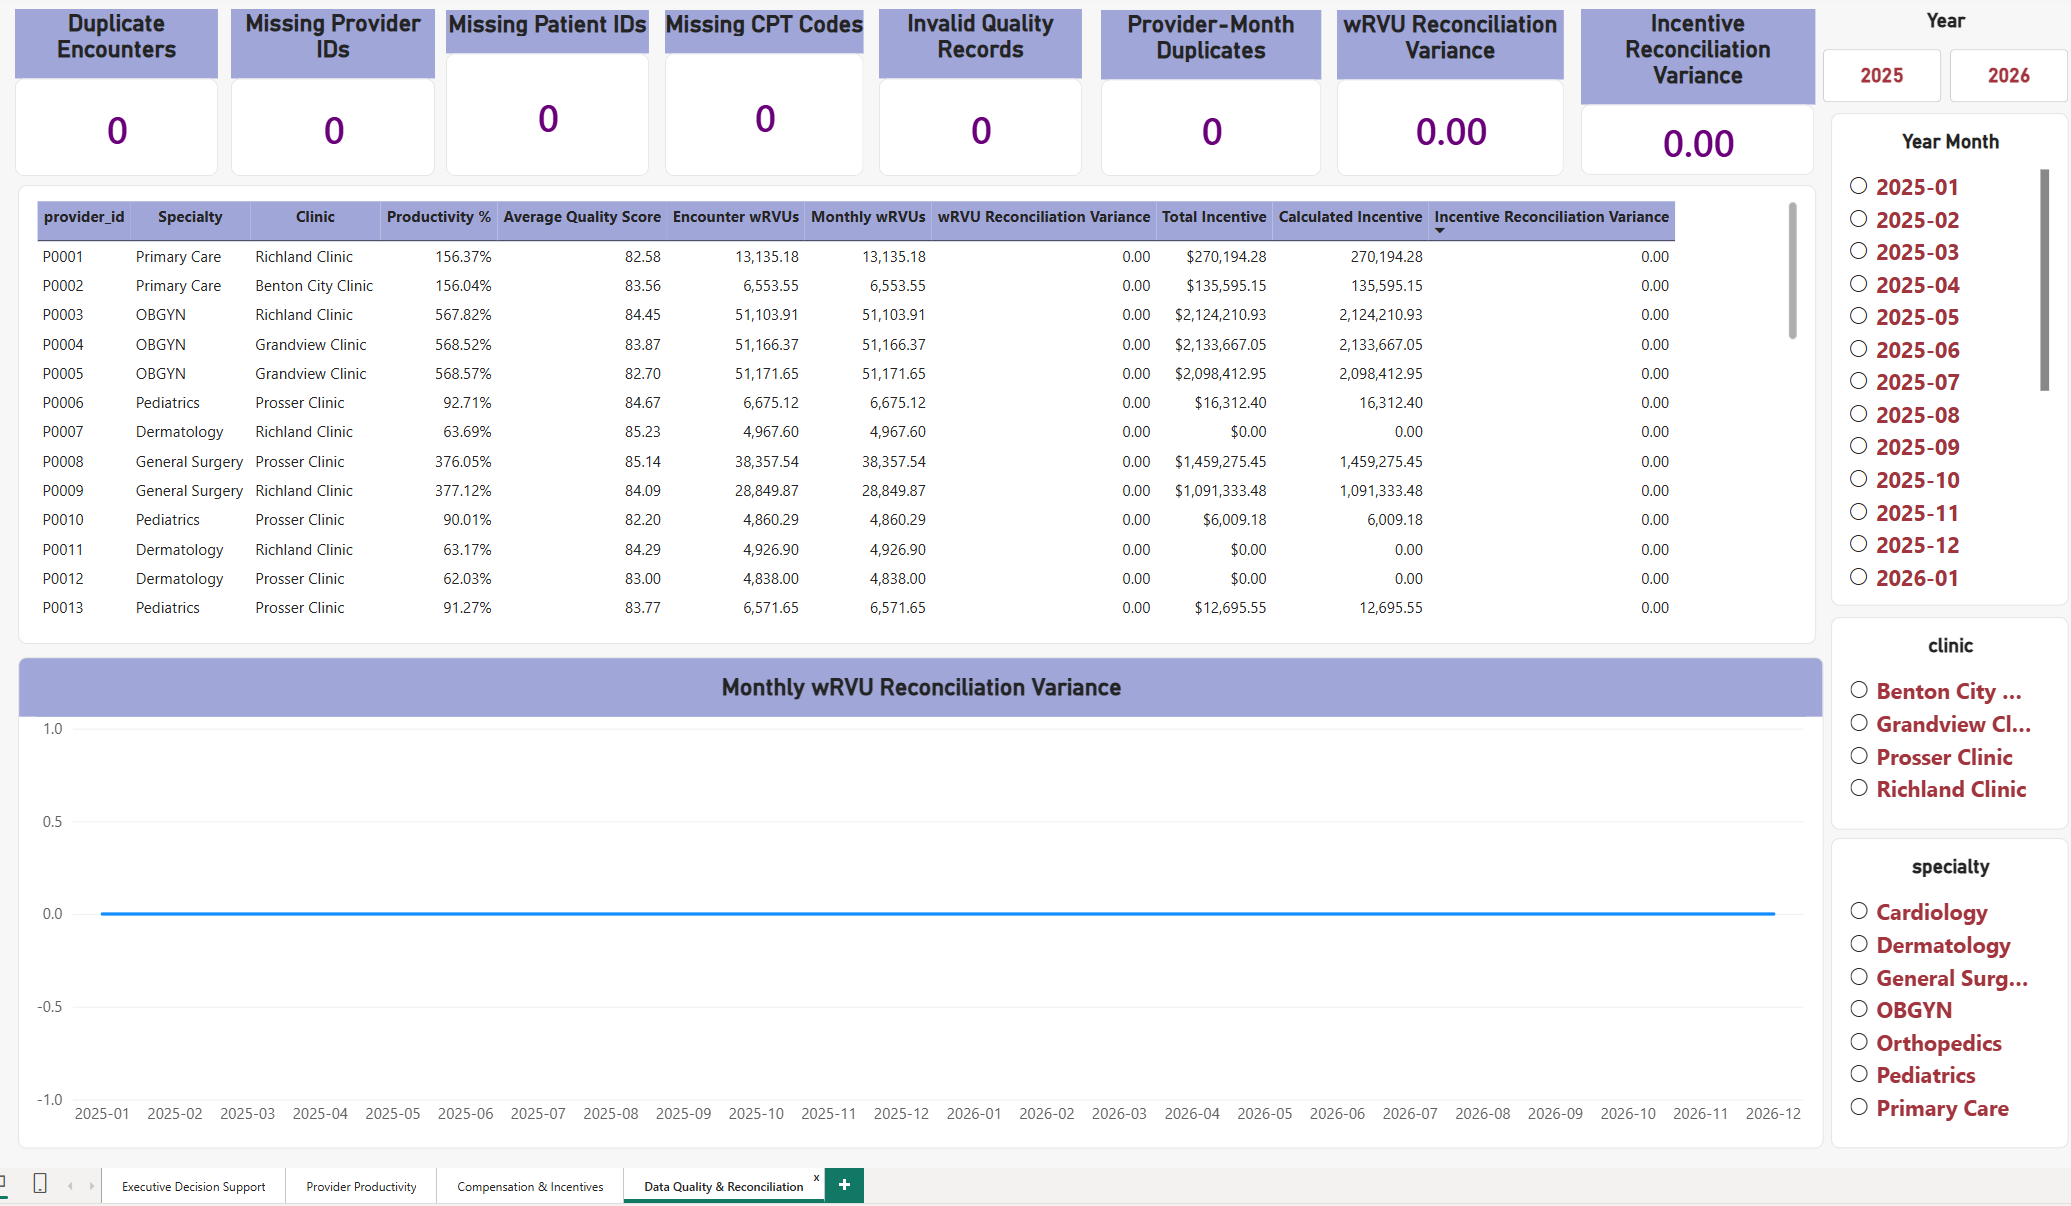

The page's visual inventory and layout, read from the dashboard file:
{"tool":"powerbi","page":{"name":"Data Quality & Reconciliation","canvas":[1920,1080],"ordinal":3},"visuals":[{"type":"tableEx","fields":{"Values":["dim_providers.provider_id","Min(dim_providers.specialty)","Min(dim_providers.clinic)","fact_provider_monthly.Productivity %","fact_provider_monthly.Average Quality Score","fact_encounter.Encounter wRVUs","fact_encounter.Monthly wRVUs","fact_encounter.wRVU Reconciliation Variance","fact_provider_monthly.Total Incentive","fact_provider_monthly.Calculated Incentive","fact_provider_monthly.Incentive Reconciliation Variance"]},"box":[21.7,174.5,1656.7,423.1],"z":0},{"type":"advancedSlicerVisual","fields":{"Values":["DimDate.Year"]},"box":[1685.8,11.9,227.1,86.9],"z":1000},{"type":"listSlicer","fields":{"Values":["DimDate.Year Month"]},"box":[1693.2,107.5,218.9,453.6],"z":2000},{"type":"listSlicer","fields":{"Values":["dim_providers.specialty"]},"box":[1693.2,776.1,218.9,286],"z":3000},{"type":"listSlicer","fields":{"Values":["dim_providers.clinic"]},"box":[1693.2,572,218.9,196.2],"z":4000},{"type":"cardVisual","title":"Duplicate Encounters","fields":{"Data":["fact_encounter.Duplicate Encounter Count"]},"box":[19.7,11.8,187.4,154.8],"z":5000},{"type":"cardVisual","title":"Missing Provider IDs","fields":{"Data":["fact_encounter.Missing Provider IDs"]},"box":[217.9,11.8,188.4,154.8],"z":6000},{"type":"cardVisual","title":"Missing Patient IDs","fields":{"Data":["fact_encounter.Missing Patient IDs"]},"box":[416.1,12.8,187.4,153.8],"z":7000},{"type":"cardVisual","title":"Missing CPT Codes","fields":{"Data":["fact_encounter.Missing CPT Codes"]},"box":[618.3,12.8,183.4,153.8],"z":8000},{"type":"cardVisual","title":"Invalid Quality Records","fields":{"Data":["fact_provider_monthly.Invalid Quality Records1"]},"box":[815.5,11.8,187.4,154.8],"z":9000},{"type":"cardVisual","title":"Provider-Month Duplicates","fields":{"Data":["fact_encounter.Provider Month Duplicate Rows"]},"box":[1019.7,12.8,203.1,153.8],"z":10000},{"type":"cardVisual","title":"wRVU Reconciliation Variance","fields":{"Data":["fact_encounter.wRVU Reconciliation Variance"]},"box":[1237.6,12.8,209.1,153.8],"z":11000},{"type":"lineChart","title":"Monthly wRVU Reconciliation Variance","fields":{"Category":["DimDate.Year Month"],"Y":["fact_encounter.wRVU Reconciliation Variance"]},"box":[21.7,609.4,1663.6,452.6],"z":12000},{"type":"cardVisual","title":"Incentive Reconciliation Variance","fields":{"Data":["fact_provider_monthly.Incentive Reconciliation Variance"]},"box":[1462.4,11.8,216,153.8],"z":13000}]}

Visuals, with their boxes on the page's 1920x1080 design canvas (x1, y1, x2, y2). These are canvas units, not pixel positions in the 2071x1206 screenshot, which may show the page scaled, cropped or inside an application window:
tableEx - dim_providers.provider_id x Min(dim_providers.specialty): x1=22 y1=174 x2=1678 y2=598
advancedSlicerVisual - DimDate.Year: x1=1686 y1=12 x2=1913 y2=99
listSlicer - DimDate.Year Month: x1=1693 y1=108 x2=1912 y2=561
listSlicer - dim_providers.specialty: x1=1693 y1=776 x2=1912 y2=1062
listSlicer - dim_providers.clinic: x1=1693 y1=572 x2=1912 y2=768
"Duplicate Encounters" cardVisual: x1=20 y1=12 x2=207 y2=167
"Missing Provider IDs" cardVisual: x1=218 y1=12 x2=406 y2=167
"Missing Patient IDs" cardVisual: x1=416 y1=13 x2=604 y2=167
"Missing CPT Codes" cardVisual: x1=618 y1=13 x2=802 y2=167
"Invalid Quality Records" cardVisual: x1=816 y1=12 x2=1003 y2=167
"Provider-Month Duplicates" cardVisual: x1=1020 y1=13 x2=1223 y2=167
"wRVU Reconciliation Variance" cardVisual: x1=1238 y1=13 x2=1447 y2=167
"Monthly wRVU Reconciliation Variance" lineChart: x1=22 y1=609 x2=1685 y2=1062
"Incentive Reconciliation Variance" cardVisual: x1=1462 y1=12 x2=1678 y2=166
